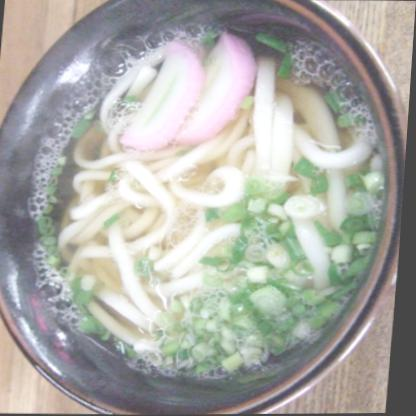Udon: (33, 30, 383, 376)
